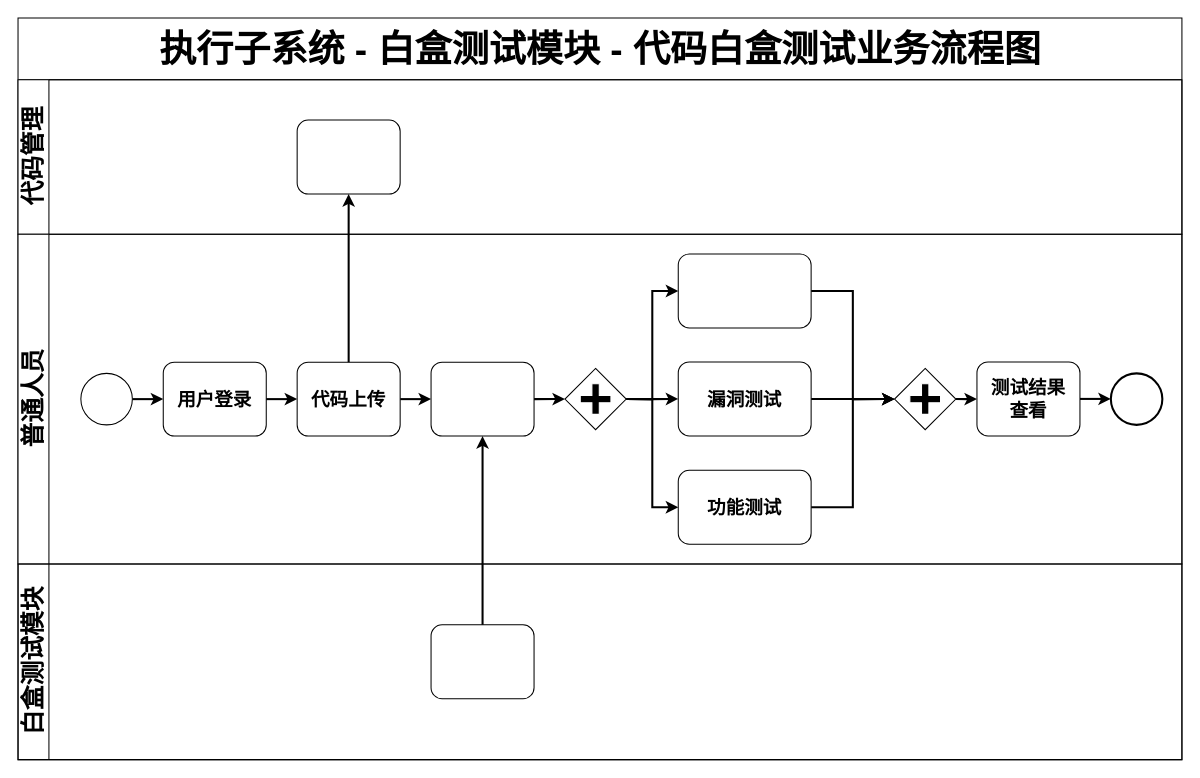
This 1200x778 diagram has some shape labels left out. Each missing label, with the centre of its shape:
待测试代码: (348,156)
测试工具: (482,661)
测试工具 选择: (482,398)
规范性测试: (744,290)
